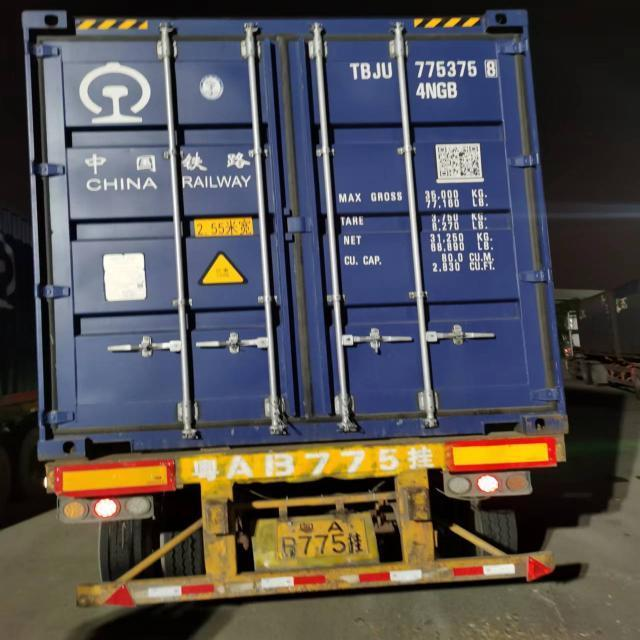ISO: (416, 82, 461, 100)
container_number: (353, 59, 499, 80)
